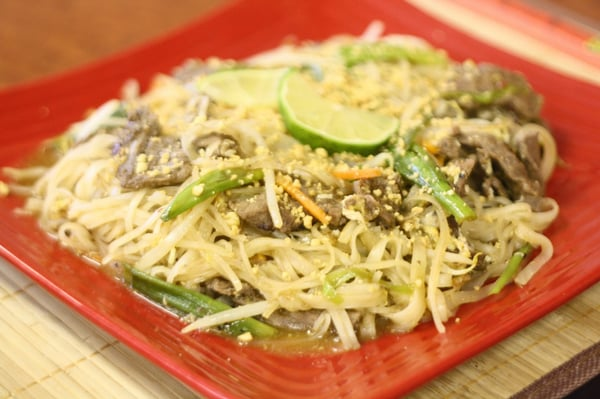curry: (392, 141, 476, 224), (162, 167, 264, 221)
